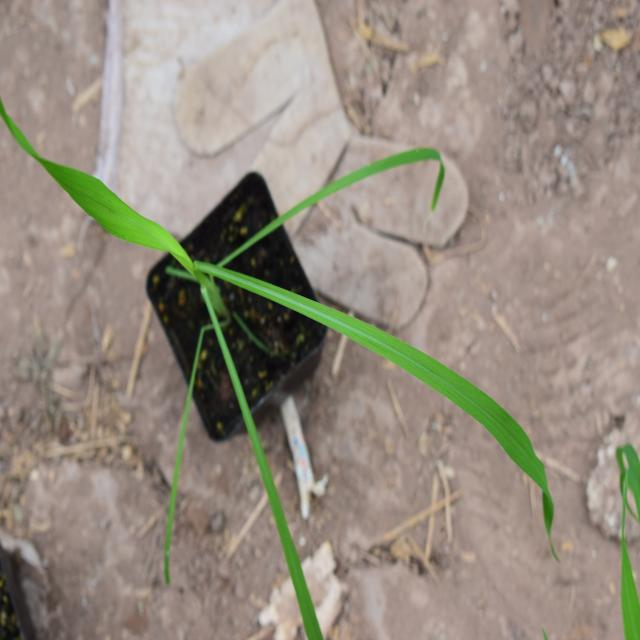barnyard_grass: (13, 120, 548, 519)
